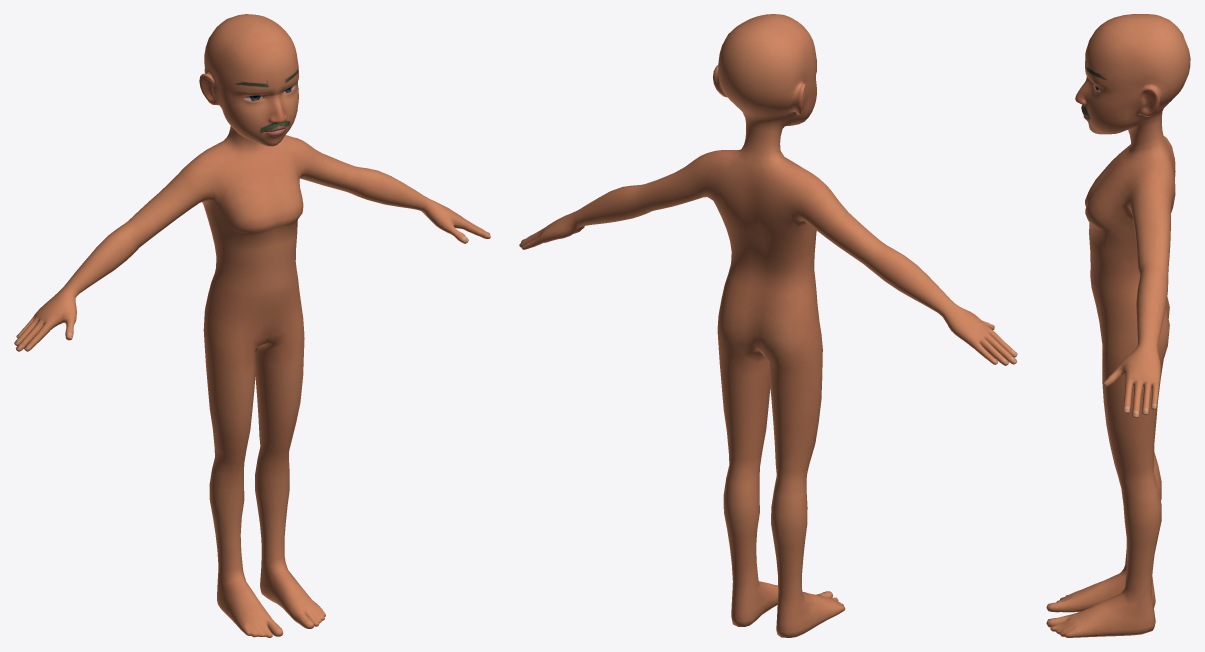
The model's file is frame_0078.glb.
3 renders of one model, left to right at view 1: azimuth 30°, elevation 25°; view 2: azimuth 150°, elevation 25°; view 3: azimuth 270°, elevation 25°, orthographic. The views are drawn at different scales.
Visible parts, largest first — view 1: frame_0078_head_geo; view 2: frame_0078_head_geo; view 3: frame_0078_head_geo.
Part boxes in pixels (left/top/right/bottom): frame_0078_head_geo: left=14, top=14, right=490, bottom=637; frame_0078_head_geo: left=519, top=14, right=1017, bottom=637; frame_0078_head_geo: left=1046, top=14, right=1190, bottom=637.
Bounding box in the file's own units: 1.28 × 1.5 × 0.3253.
Materials: 3 (3 with a texture image).
